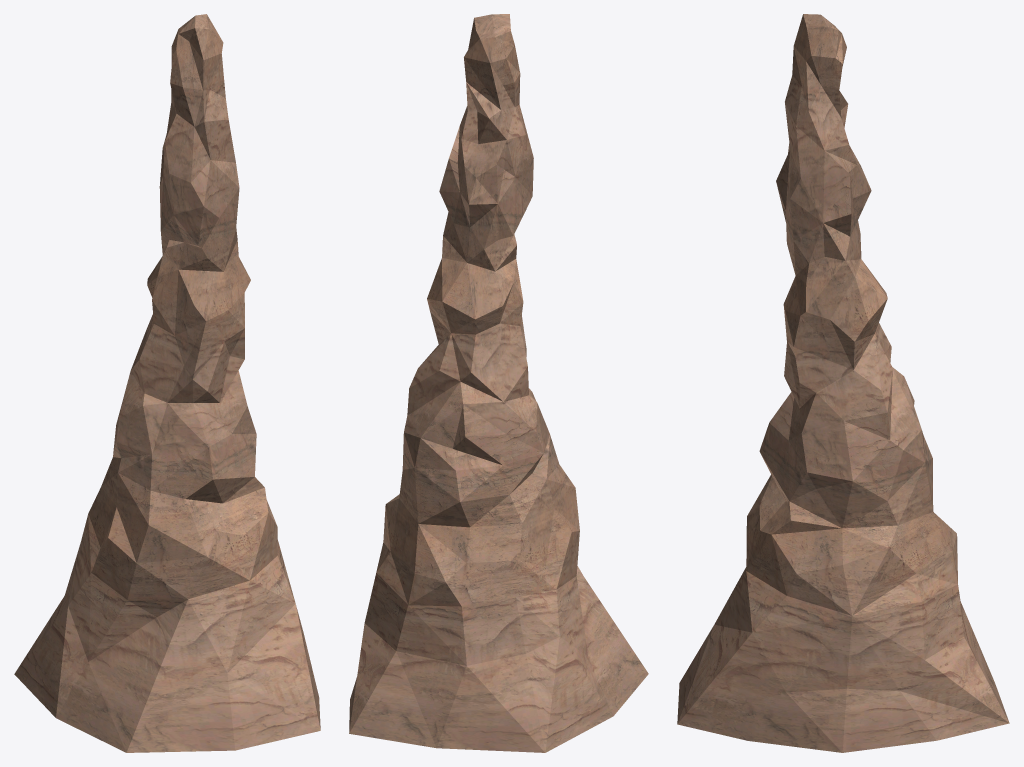
Rendered from rock_tatt_spire_skinny_a1_l0.fbx.
The picture shows the model from 3 angles, left to right: view 1: azimuth 30°, elevation 25°; view 2: azimuth 150°, elevation 25°; view 3: azimuth 270°, elevation 25°; orthographic projection. The views are drawn at different scales.
Visible parts, largest first — view 1: mesh_node; view 2: mesh_node; view 3: mesh_node.
Part boxes in pixels (x1=…): mesh_node: x1=14, y1=14, x2=320, y2=752; mesh_node: x1=349, y1=14, x2=648, y2=752; mesh_node: x1=677, y1=14, x2=1009, y2=752.
Size of the model in its own units: 28.31 by 75.15 by 33.14.
